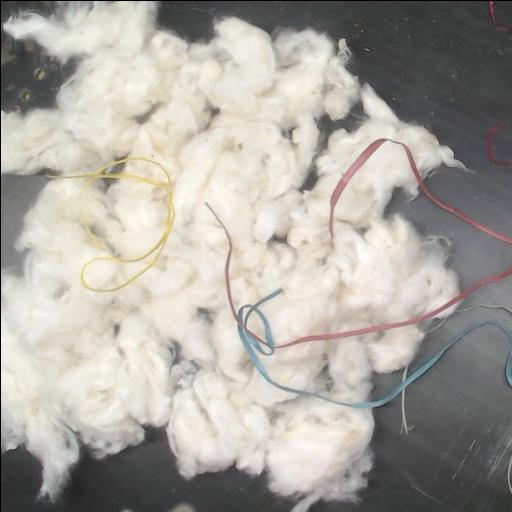conveyor belt: (158, 1, 512, 235), (311, 325, 512, 512), (1, 428, 291, 512), (388, 191, 512, 286), (412, 276, 512, 367), (1, 26, 71, 110), (1, 177, 43, 269), (1, 1, 53, 24)
cotton: (1, 1, 464, 512)
thread: (205, 202, 512, 432), (328, 138, 512, 245), (48, 155, 175, 292), (486, 125, 512, 171), (487, 1, 512, 31), (506, 452, 512, 495)
